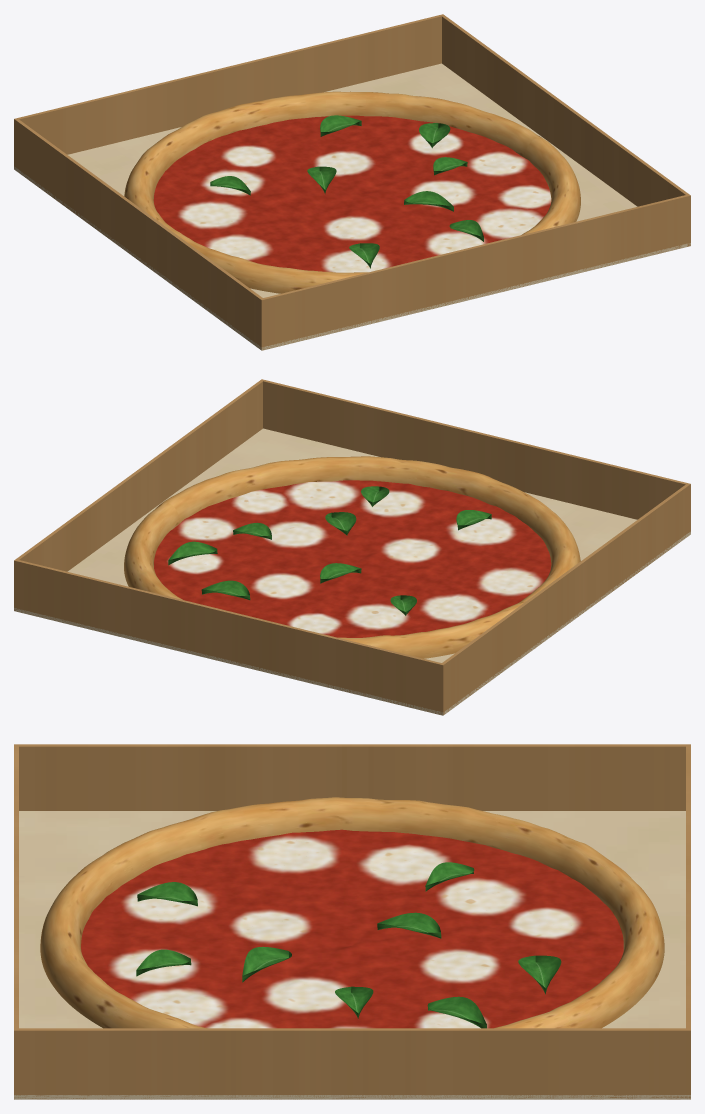
File: pizza-caixa-margherita.glb
The picture shows the model from 3 angles, top to bottom: view 1: azimuth 30°, elevation 25°; view 2: azimuth 150°, elevation 25°; view 3: azimuth 270°, elevation 25°; orthographic projection. The views are drawn at different scales.
Visible parts, largest first — view 1: pizza-caixa-margherita; view 2: pizza-caixa-margherita; view 3: pizza-caixa-margherita.
Part boxes in pixels (x1,y1,x2,y2): pizza-caixa-margherita: (14,14,690,350); pizza-caixa-margherita: (14,379,690,715); pizza-caixa-margherita: (14,744,690,1099).
Bounding box in the file's own units: 0.4 × 0.045 × 0.4.
Materials: 5 (5 with a texture image).
